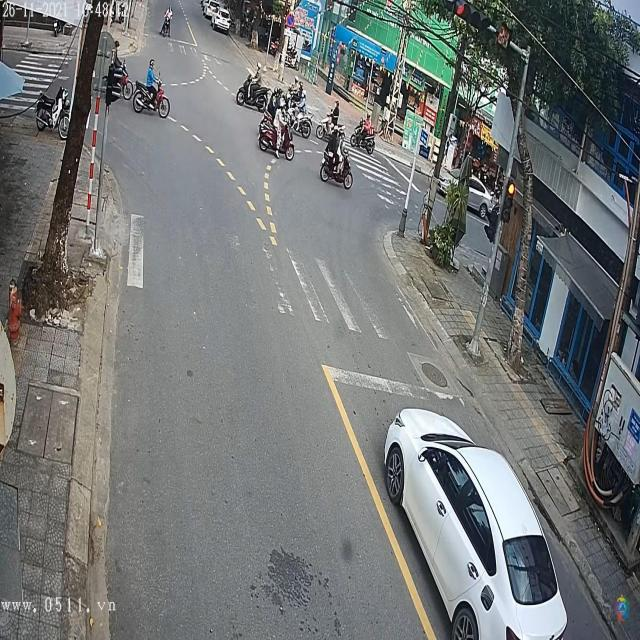car: (378, 407, 577, 640)
motorcycle: (134, 79, 170, 122), (319, 141, 352, 187), (259, 119, 295, 161), (235, 73, 269, 110), (352, 116, 375, 155)
